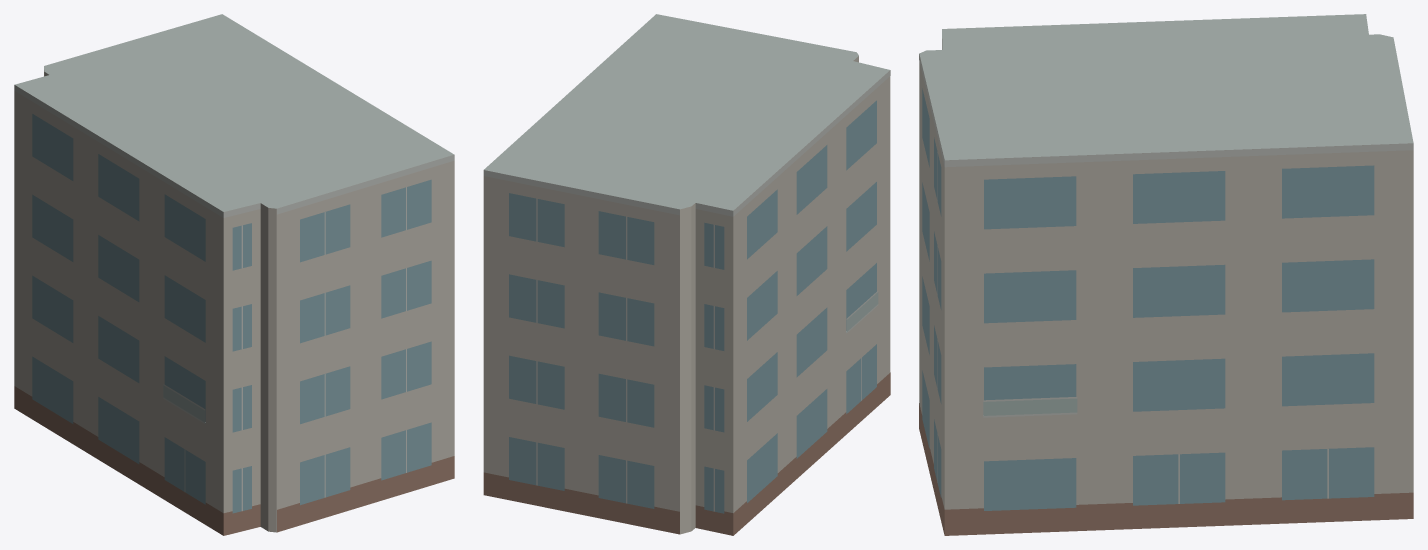
File: survey-upis-33022683.glb
3 views of the same model, side by side, from view 1: azimuth 30°, elevation 25°; view 2: azimuth 150°, elevation 25°; view 3: azimuth 270°, elevation 25° (orthographic). The views are drawn at different scales.
Parts seen in each view (by area): view 1: survey-upis-33022683.tmp; view 2: survey-upis-33022683.tmp; view 3: survey-upis-33022683.tmp.
Part boxes in pixels (x1,y1,x2,y2): survey-upis-33022683.tmp: (14,14,454,535); survey-upis-33022683.tmp: (483,14,890,535); survey-upis-33022683.tmp: (919,14,1413,535).
Bounding box in the file's own units: 11.04 × 13.2 × 15.76.
